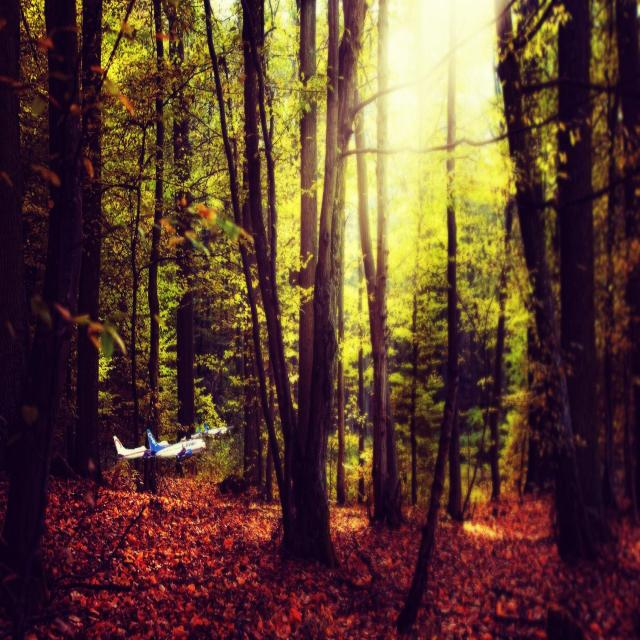airplane: (147, 431, 207, 456), (192, 421, 234, 440), (112, 438, 146, 460)
